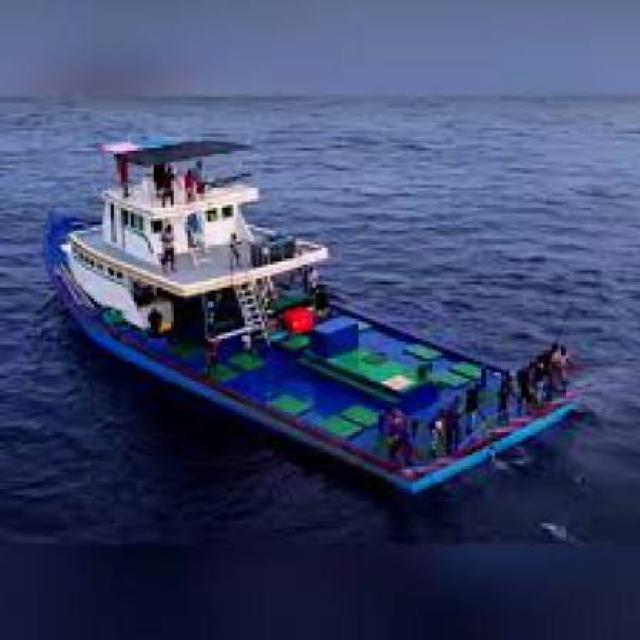fish-b: (40, 123, 599, 508)
